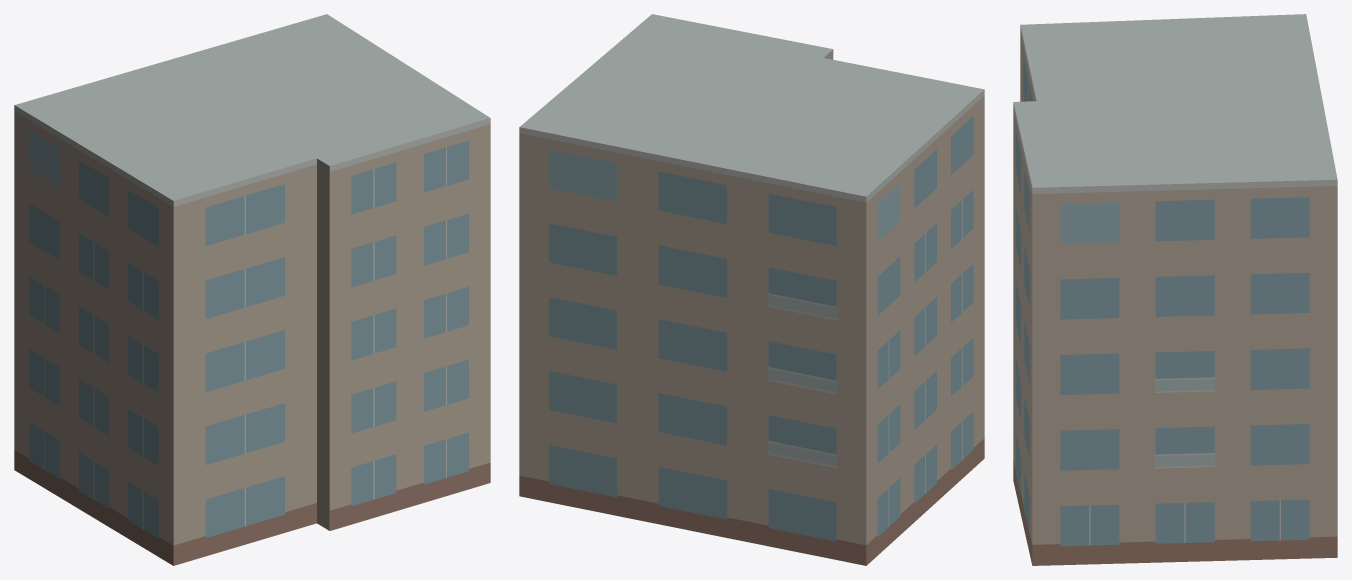
File: survey-upis-32933051.glb
3 renders of one model, left to right at view 1: azimuth 30°, elevation 25°; view 2: azimuth 150°, elevation 25°; view 3: azimuth 270°, elevation 25°, orthographic. The views are drawn at different scales.
Visible parts, largest first — view 1: survey-upis-32933051.tmp; view 2: survey-upis-32933051.tmp; view 3: survey-upis-32933051.tmp.
Boxes of the visible parts, box(x1,y1,x2,y2) form: survey-upis-32933051.tmp: box(14, 14, 490, 565); survey-upis-32933051.tmp: box(519, 14, 984, 565); survey-upis-32933051.tmp: box(1013, 14, 1337, 565).
Size of the model in its own units: 14.56 by 14.75 by 11.48.
